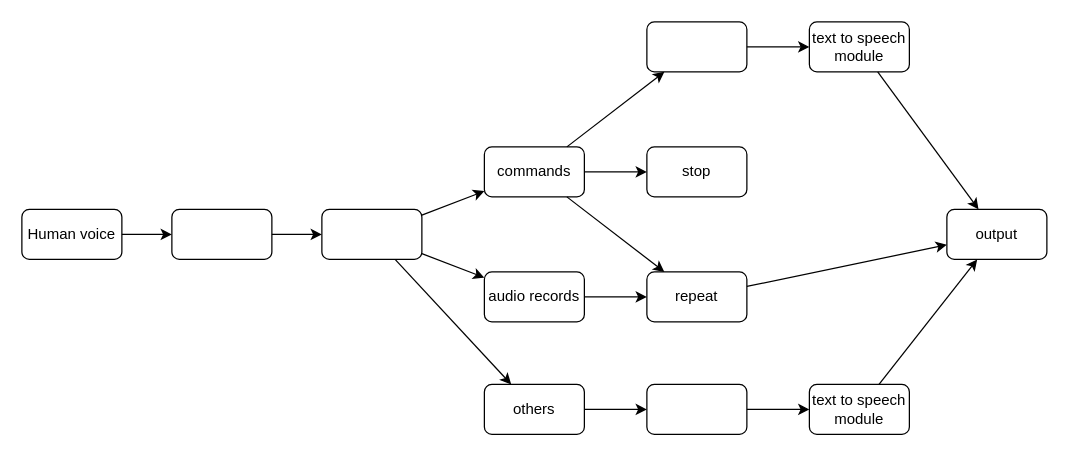
Image size: 1069x456. Some labels were removed from this diagram. Here are the shapes that lost their labels. From the top down, the centre of each, then its label:
pixel 696 46: speak
pixel 221 233: Audio data
pixel 371 233: speech to text module
pixel 696 408: match moduel
